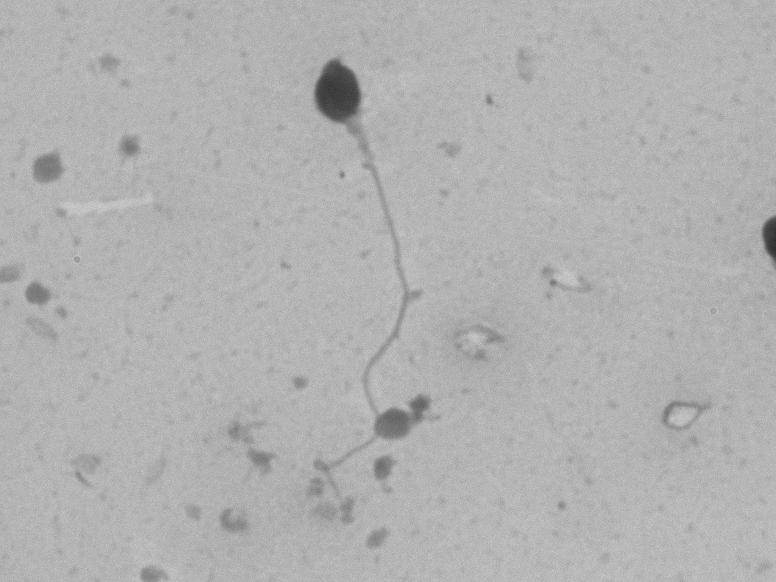Abnormal: (296, 47, 420, 509)
